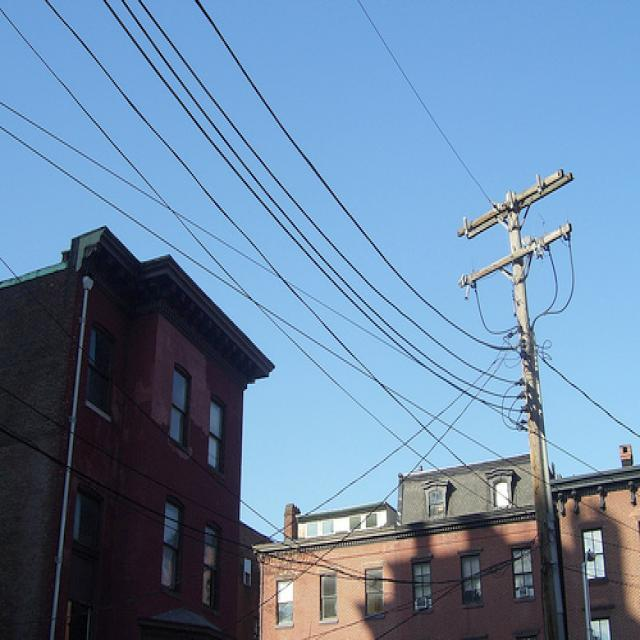crossarm: (457, 169, 573, 241), (460, 224, 572, 288)
pole: (502, 191, 566, 640)
wire: (1, 123, 638, 535), (44, 2, 511, 507), (1, 100, 604, 476), (2, 14, 435, 469), (101, 0, 525, 416), (119, 0, 523, 399), (145, 0, 531, 386), (202, 3, 515, 356), (262, 342, 513, 608), (274, 350, 505, 539), (356, 2, 490, 204), (555, 361, 640, 441)
